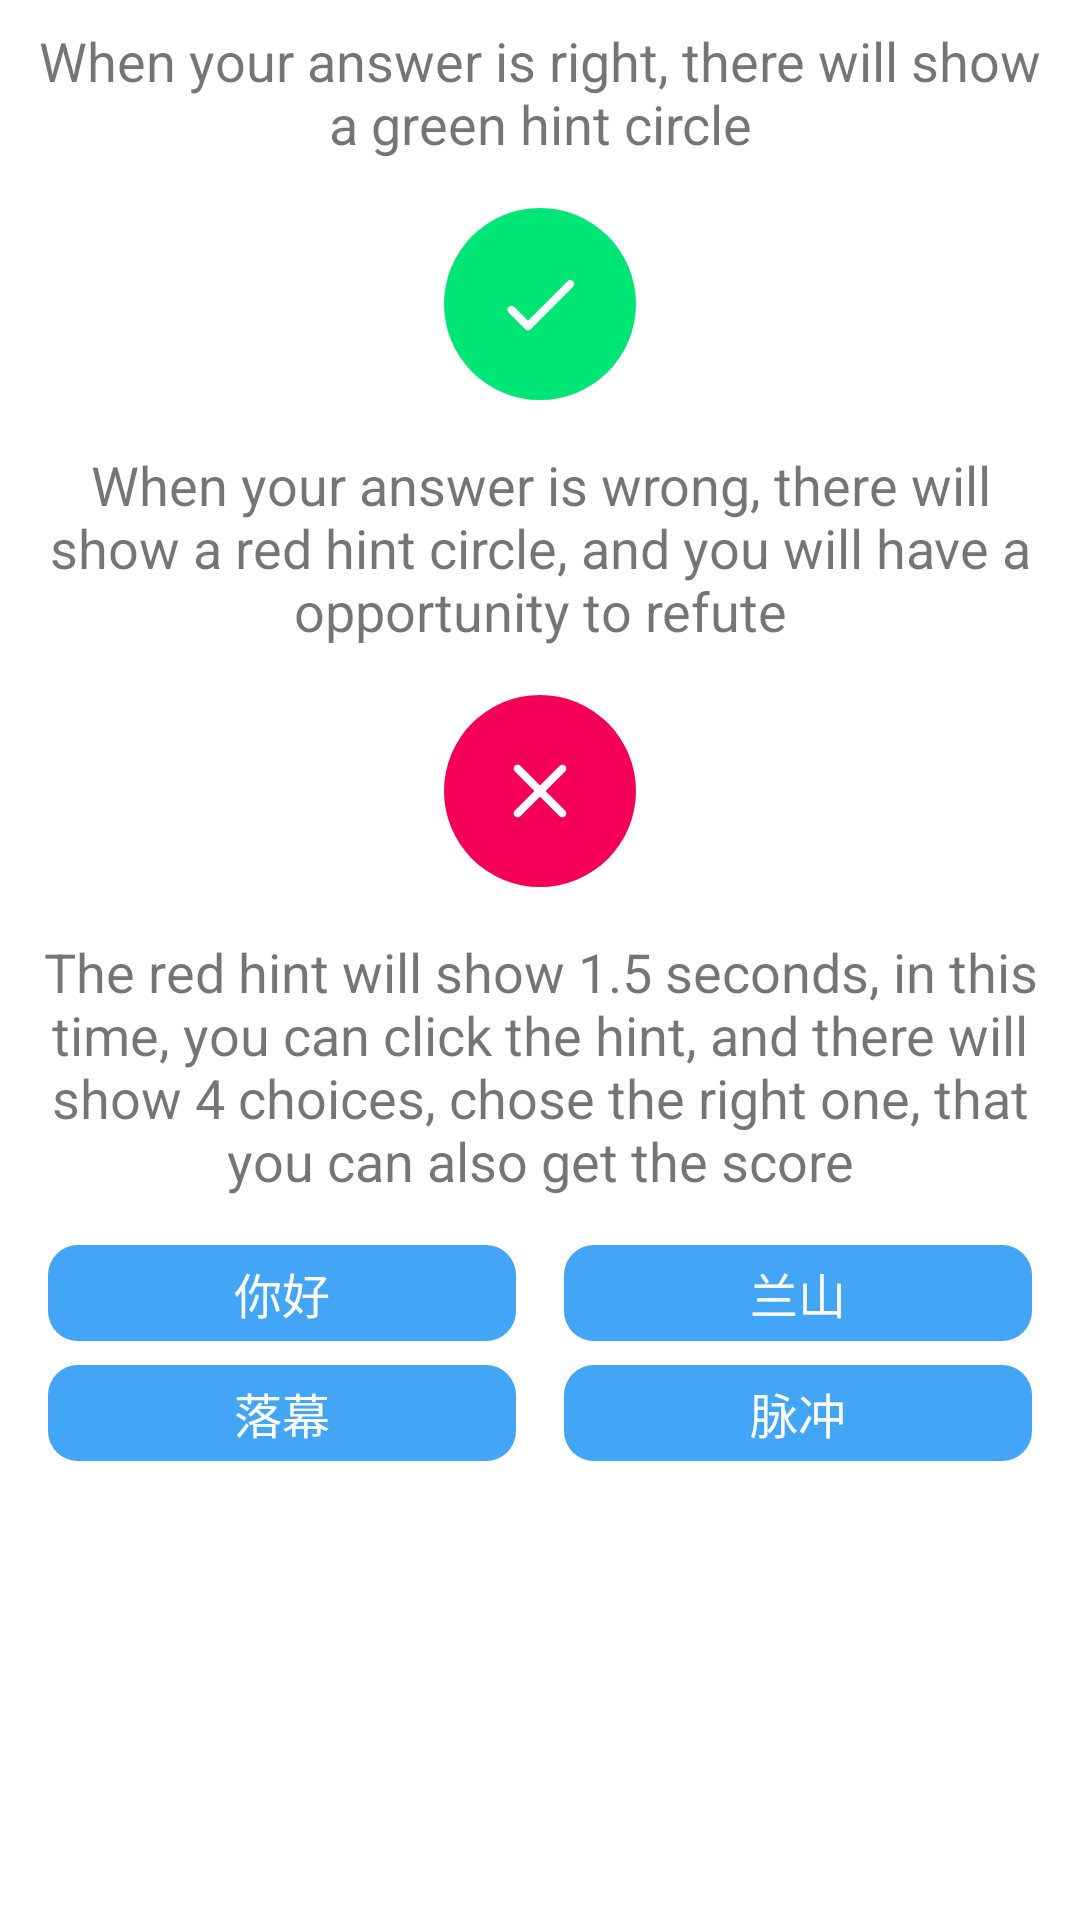

Where to tap for icons on this 1080w x 1920h app screen, as point (x, y):
check: point (540, 304)
clear: point (540, 791)
